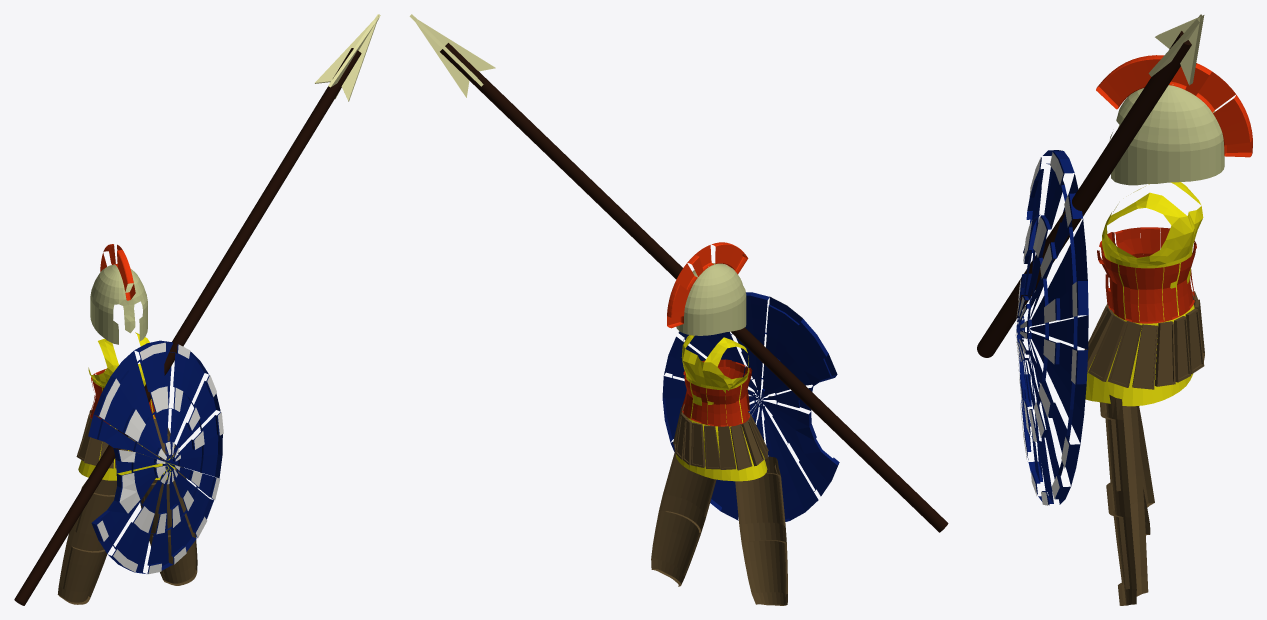
Rendered from Phalanx.glb.
3 renders of one model, left to right at view 1: azimuth 30°, elevation 25°; view 2: azimuth 150°, elevation 25°; view 3: azimuth 270°, elevation 25°, orthographic. The views are drawn at different scales.
Parts seen in each view (by area): view 1: shield, spear handle, shield rings, fender right, helmet, fender left, spear head, Circle, armor upper leg, helmet top; view 2: shield, spear handle, fender right, fender left, armor upper leg, helmet, Circle, armor torso, helmet top, spear head; view 3: shield, helmet, armor upper leg, fender left, Circle, armor torso, spear handle, helmet top, shield rings, spear head, fender right.
Part boxes in pixels (x1,y1,x2,y2): shield: (88, 340, 222, 573); spear handle: (14, 48, 361, 605); shield rings: (97, 342, 223, 574); fender right: (57, 479, 116, 604); helmet: (90, 264, 147, 344); fender left: (140, 455, 197, 585); spear head: (315, 14, 380, 101); Circle: (78, 332, 175, 480); armor upper leg: (76, 410, 175, 468); helmet top: (100, 244, 135, 300); shield: (662, 292, 839, 521); spear handle: (440, 43, 948, 532); fender right: (735, 456, 787, 605); fender left: (651, 453, 716, 586); armor upper leg: (673, 404, 768, 470); helmet: (676, 263, 746, 335); Circle: (676, 335, 767, 481); armor torso: (681, 359, 752, 426); helmet top: (667, 242, 748, 328); spear head: (409, 14, 495, 97); shield: (1016, 150, 1088, 505); helmet: (1109, 84, 1224, 185); armor upper leg: (1084, 290, 1204, 389); fender left: (1099, 395, 1148, 605); Circle: (1085, 182, 1203, 406); armor torso: (1097, 227, 1196, 323); spear handle: (977, 31, 1191, 357); helmet top: (1096, 55, 1252, 157); shield rings: (1015, 152, 1077, 505); spear head: (1148, 14, 1204, 85); fender right: (1137, 406, 1154, 535).
Bounding box in the file's own units: 2.8 × 3.05 × 1.01.
